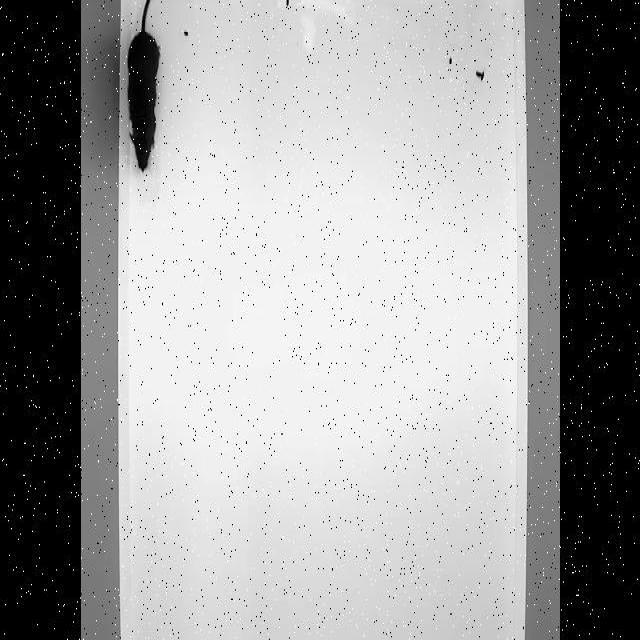rat: (127, 3, 160, 172)
